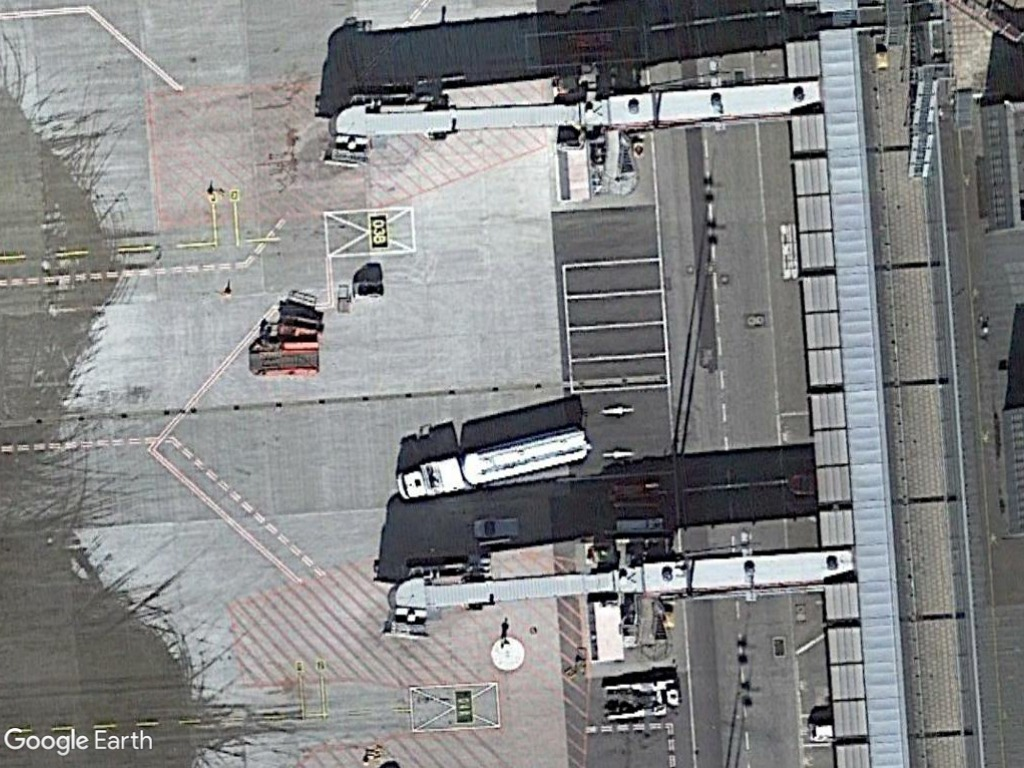longvehicle: (394, 420, 594, 506)
pushbacktruck: (597, 673, 680, 724)
